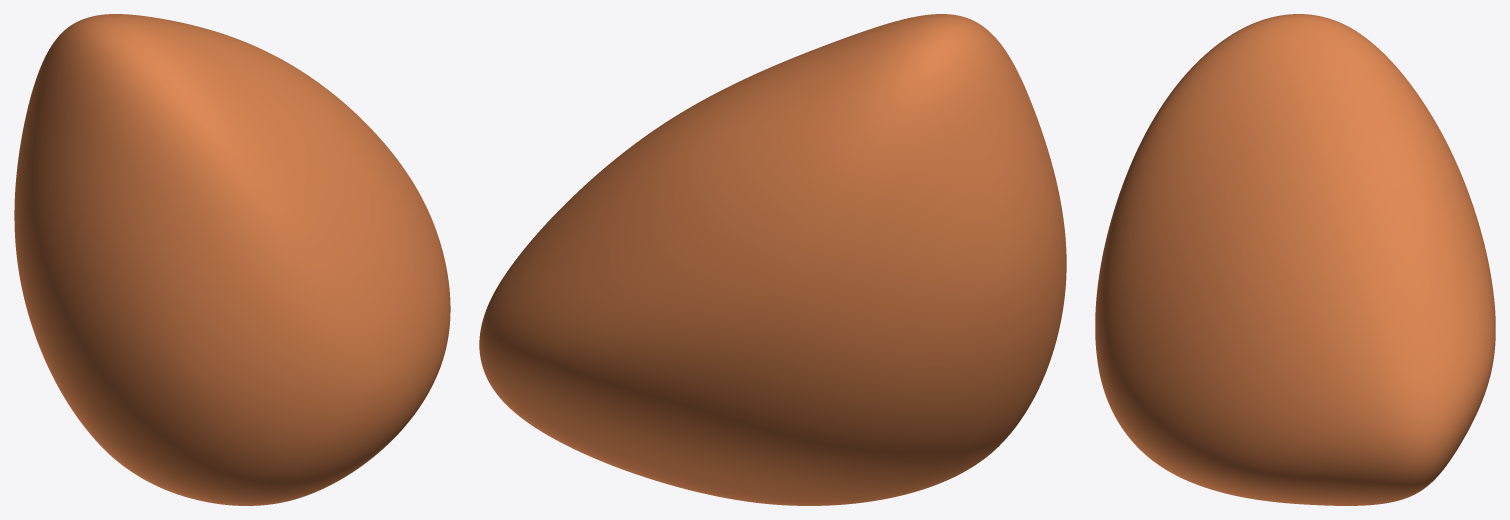
3 views of the same model, side by side, from view 1: azimuth 30°, elevation 25°; view 2: azimuth 150°, elevation 25°; view 3: azimuth 270°, elevation 25° (orthographic). The views are drawn at different scales.
Visible parts, largest first — view 1: SO_F; view 2: SO_F; view 3: SO_F.
Boxes of the visible parts, left/top/right/bottom form: SO_F: left=14, top=14, right=450, bottom=505; SO_F: left=479, top=14, right=1066, bottom=505; SO_F: left=1095, top=14, right=1495, bottom=505.
Bounding box in the file's own units: 5.81 × 5.87 × 5.21.
